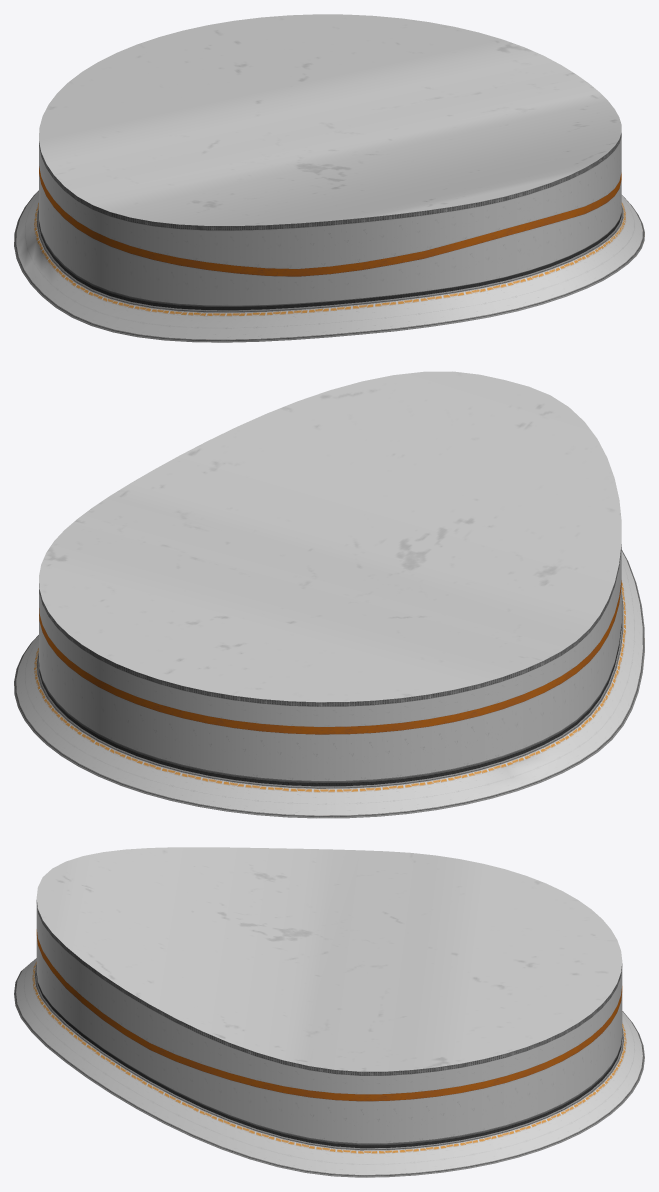
The model's file is Roof.fbx.
3 views of the same model, one above another, from view 1: azimuth 30°, elevation 25°; view 2: azimuth 150°, elevation 25°; view 3: azimuth 270°, elevation 25° (orthographic). The views are drawn at different scales.
Parts seen in each view (by area): view 1: ProBuilder_Roof.001; view 2: ProBuilder_Roof.001; view 3: ProBuilder_Roof.001.
Part boxes in pixels (x1,y1,x2,y2): ProBuilder_Roof.001: (14, 14, 644, 342); ProBuilder_Roof.001: (14, 371, 644, 818); ProBuilder_Roof.001: (14, 847, 644, 1177).
Size of the model in its own units: 119 by 36.99 by 132.
